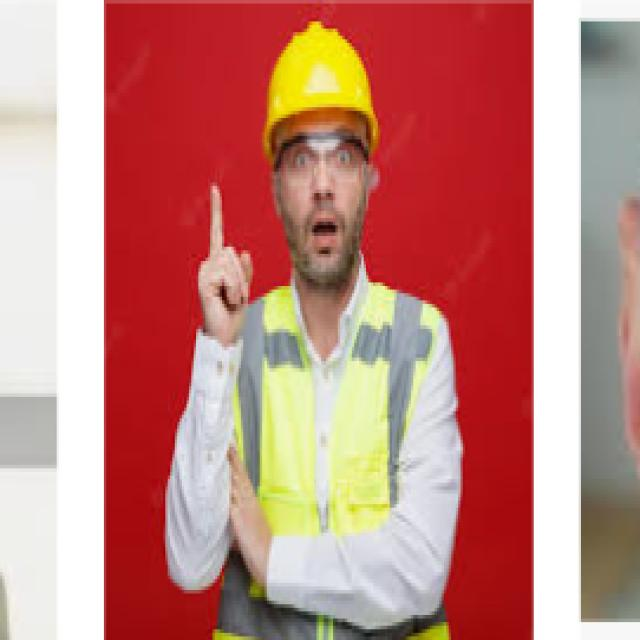glasses: (268, 132, 379, 192)
